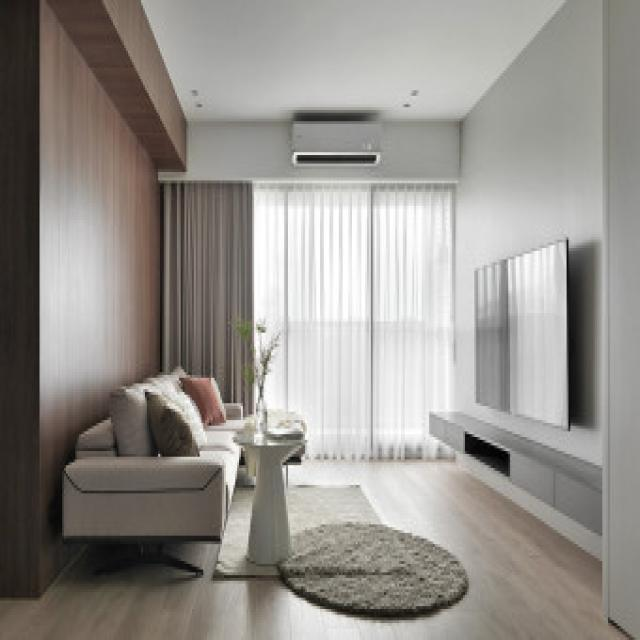Sofa: (64, 348, 244, 565)
Table: (235, 396, 309, 565)
tv: (469, 236, 573, 442)
window: (167, 190, 448, 367)
